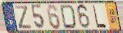5: (30, 4, 46, 31)
6: (46, 4, 62, 31), (77, 3, 92, 31)
D: (59, 4, 78, 30)
L: (92, 4, 108, 29)
Z: (14, 5, 33, 30)
